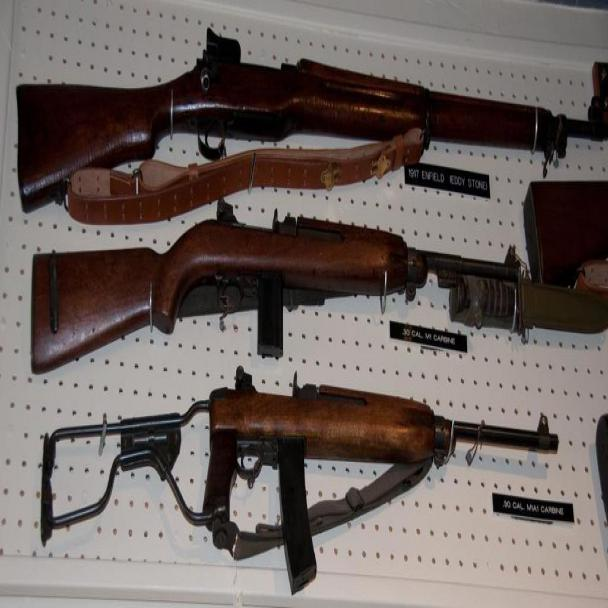Hand: (0, 343, 573, 608), (0, 0, 607, 224), (0, 194, 607, 386)
